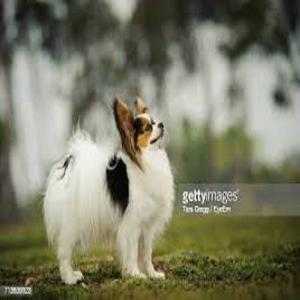yell: (44, 98, 175, 283)
